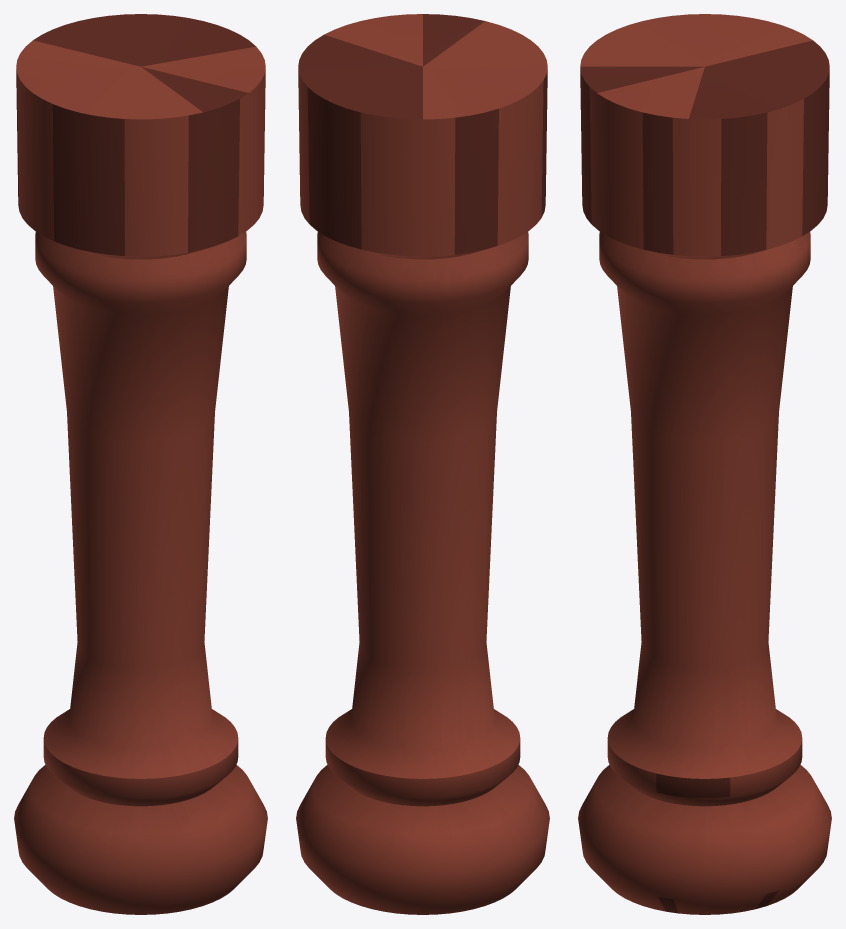
File: den_bed_leg.glb
The picture shows the model from 3 angles, left to right: view 1: azimuth 30°, elevation 25°; view 2: azimuth 150°, elevation 25°; view 3: azimuth 270°, elevation 25°; orthographic projection.
Parts seen in each view (by area): view 1: den_bed_leg; view 2: den_bed_leg; view 3: den_bed_leg.
Part boxes in pixels (bbox=[...]): den_bed_leg: bbox=[14, 14, 267, 914]; den_bed_leg: bbox=[296, 14, 549, 914]; den_bed_leg: bbox=[578, 14, 831, 914].
Bounding box in the file's own units: 6 × 21 × 6.
